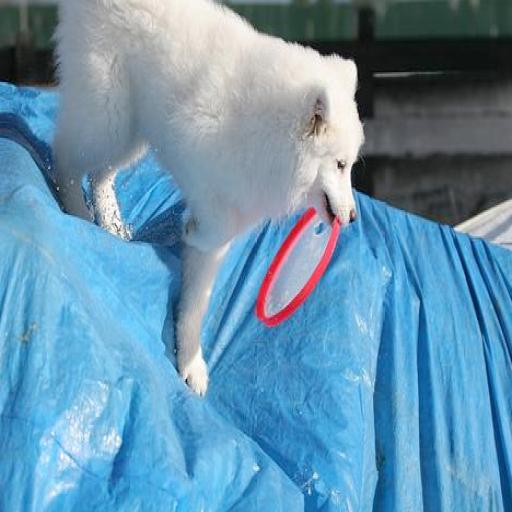dog_face: (287, 59, 363, 236)
